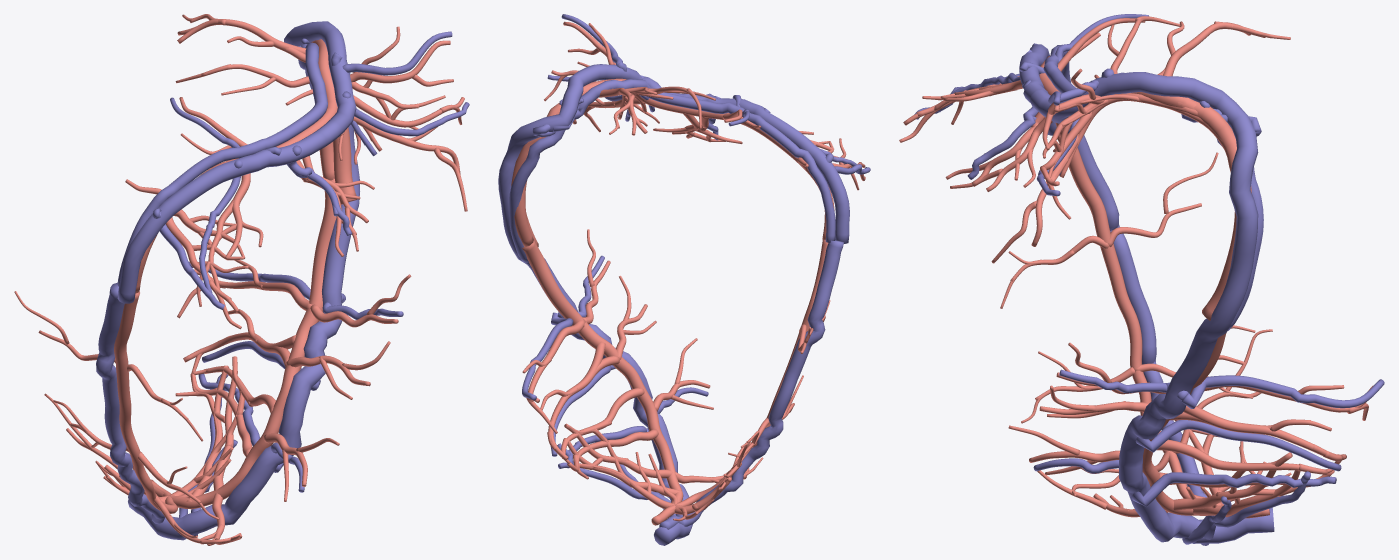
The model's file is vessels_19.glb.
The picture shows the model from 3 angles, left to right: view 1: azimuth 30°, elevation 25°; view 2: azimuth 150°, elevation 25°; view 3: azimuth 270°, elevation 25°; orthographic projection. The views are drawn at different scales.
Parts seen in each view (by area): view 1: Renderer Node; view 2: Renderer Node; view 3: Renderer Node.
Part boxes in pixels (left/top/right/bottom): Renderer Node: left=14, top=14, right=469, bottom=545; Renderer Node: left=498, top=14, right=870, bottom=545; Renderer Node: left=899, top=14, right=1384, bottom=545.
Size of the model in its own units: 94.15 by 121 by 94.5.
